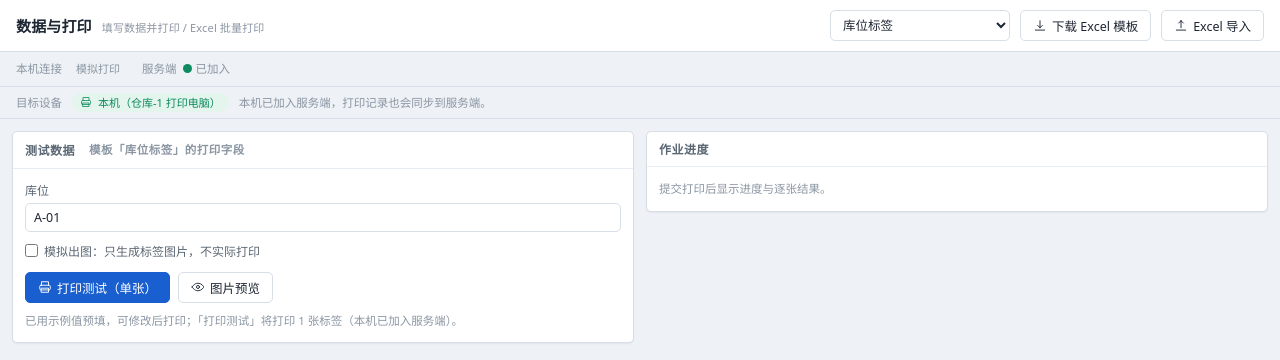
目标设备固定本机（迭代 22 决策 1A） › Server 作业视图（无 items）：进度与目标设备可见，不渲染逐张表格
The width and height of the screenshot is (1280, 360).
Check: the field showing "A-01" is shown, box [25,203,621,232]
Check: the text "本机（仓库-1 打印电脑）" is shown, box [72,93,229,112]
Click the button "打印测试（单张）" at x=98, y=287, box [25,272,170,303]
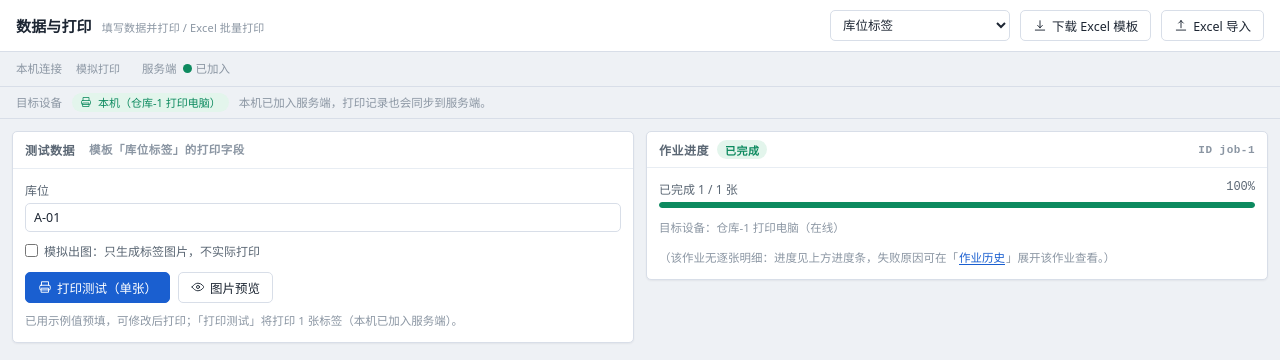
Check: the text "已完成 1 / 1 张" is shown, box [659,180,738,198]
Check: the text "目标设备：仓库-1 打印电脑（在线）" is shown, box [659,220,845,235]
Check: the text "（该作业无逐张明细：进度见上方进度条，失败原因可在「 作业历史 」展开该作业查看。）" is shown, box [659,248,1115,267]
